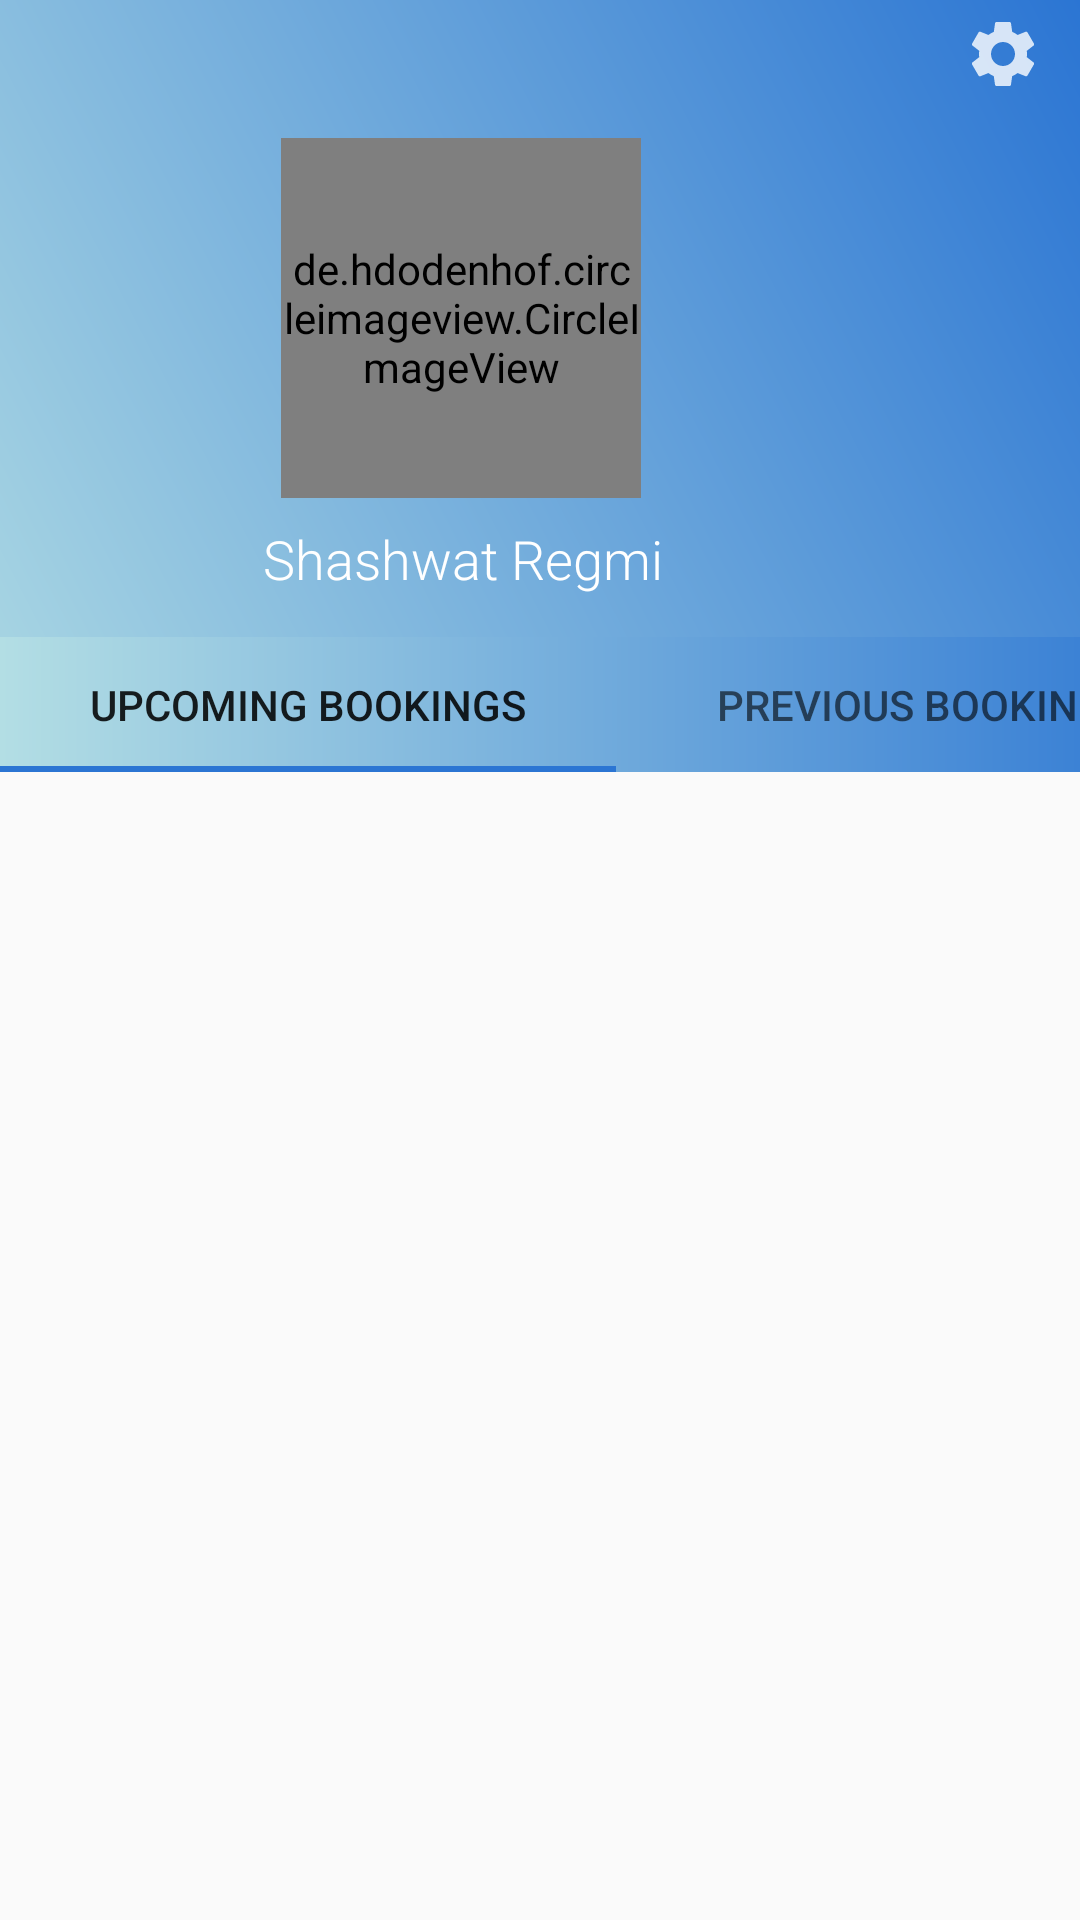

Icons on this 1080px×1920px Android screen, each with the point to tap as point (x, y):
usersettings: point (1003, 54)
